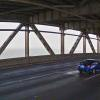Car: (76, 50, 100, 84)
